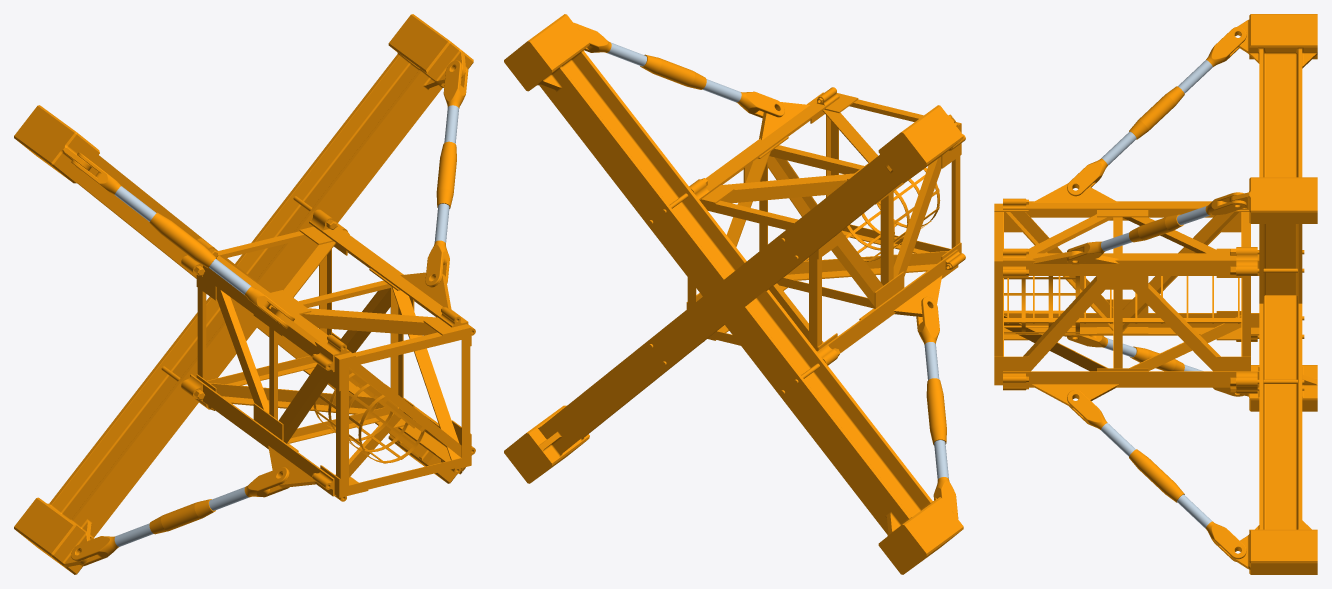
Rendered from bodyground_base.obj.
3 renders of one model, left to right at view 1: azimuth 30°, elevation 25°; view 2: azimuth 150°, elevation 25°; view 3: azimuth 270°, elevation 25°, orthographic. The views are drawn at different scales.
Parts seen in each view (by area): view 1: crane body segment ground base-40, crane body segment ground base-124, crane body segment ground base-50, crane body segment ground base-107, crane body segment ground base-123, crane body segment ground base-77, crane body segment ground base-126, crane body segment ground base-80, crane body segment ground base-95, crane body segment ground base-110, crane body segment ground base-10, crane body segment ground base-37 (+23 smaller); view 2: crane body segment ground base-40, crane body segment ground base-50, crane body segment ground base-107, crane body segment ground base-98, crane body segment ground base-10, crane body segment ground base-138, crane body segment ground base-126, crane body segment ground base-8, crane body segment ground base-114, crane body segment ground base-34, crane body segment ground base-66, crane body segment ground base-116 (+11 smaller); view 3: crane body segment ground base-40, crane body segment ground base-107, crane body segment ground base-61, crane body segment ground base-124, crane body segment ground base-52, crane body segment ground base-77, crane body segment ground base-50, crane body segment ground base-126, crane body segment ground base-10, crane body segment ground base-130, crane body segment ground base-80, crane body segment ground base-54 (+23 smaller).
Part boxes in pixels (x1,y1,x2,y2): crane body segment ground base-40: (14,14,473,574); crane body segment ground base-124: (203,255,349,371); crane body segment ground base-50: (190,374,335,496); crane body segment ground base-107: (309,221,468,327); crane body segment ground base-123: (300,308,437,335); crane body segment ground base-77: (392,287,460,460); crane body segment ground base-126: (216,287,269,413); crane body segment ground base-80: (210,383,384,414); crane body segment ground base-95: (341,329,469,367); crane body segment ground base-110: (336,361,348,495); crane body segment ground base-10: (279,364,328,443); crane body segment ground base-37: (349,364,461,457); crane body segment ground base-40: (504,14,963,574); crane body segment ground base-50: (817,249,958,352); crane body segment ground base-107: (699,92,839,199); crane body segment ground base-98: (720,173,853,203); crane body segment ground base-10: (893,156,941,277); crane body segment ground base-138: (784,251,948,280); crane body segment ground base-126: (831,231,883,306); crane body segment ground base-8: (880,192,893,285); crane body segment ground base-114: (809,251,821,351); crane body segment ground base-34: (700,200,798,229); crane body segment ground base-66: (769,145,863,174); crane body segment ground base-116: (640,54,706,89); crane body segment ground base-40: (1229,14,1317,574); crane body segment ground base-107: (1003,251,1259,275); crane body segment ground base-61: (1003,371,1259,408); crane body segment ground base-124: (1003,183,1248,217); crane body segment ground base-52: (1133,283,1220,371); crane body segment ground base-77: (1023,276,1104,371); crane body segment ground base-50: (1028,313,1259,336); crane body segment ground base-126: (1122,212,1240,331); crane body segment ground base-10: (1004,212,1113,330); crane body segment ground base-130: (1004,318,1241,323); crane body segment ground base-80: (1129,315,1241,371); crane body segment ground base-54: (1129,86,1184,139).
Size of the model in its own units: 5118 by 5118 by 3780.
